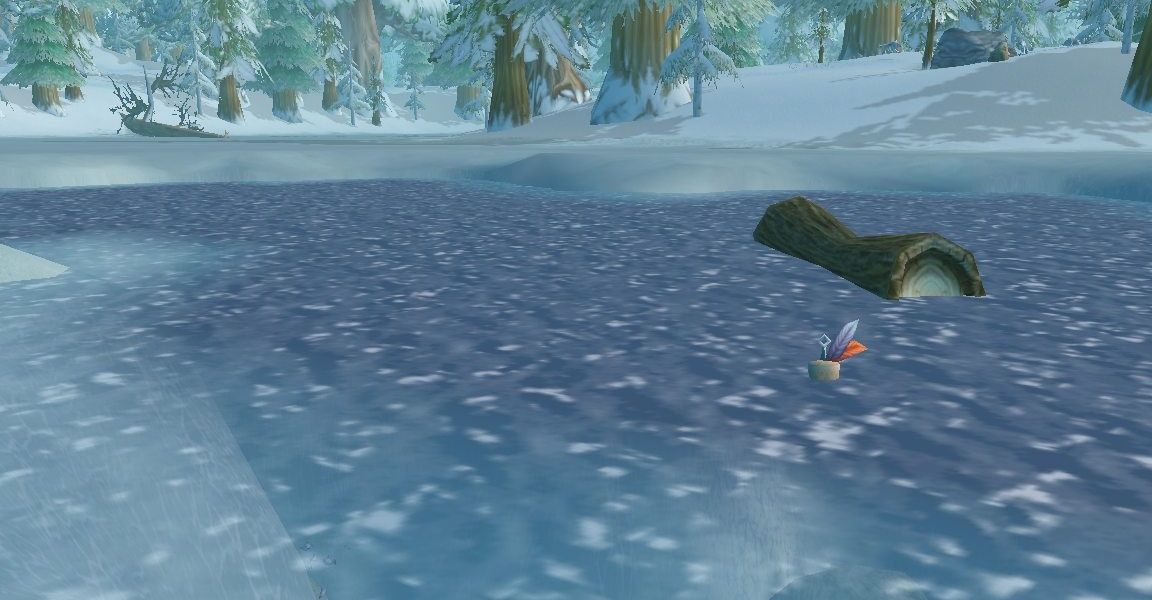Bobber: (808, 320, 867, 384)
